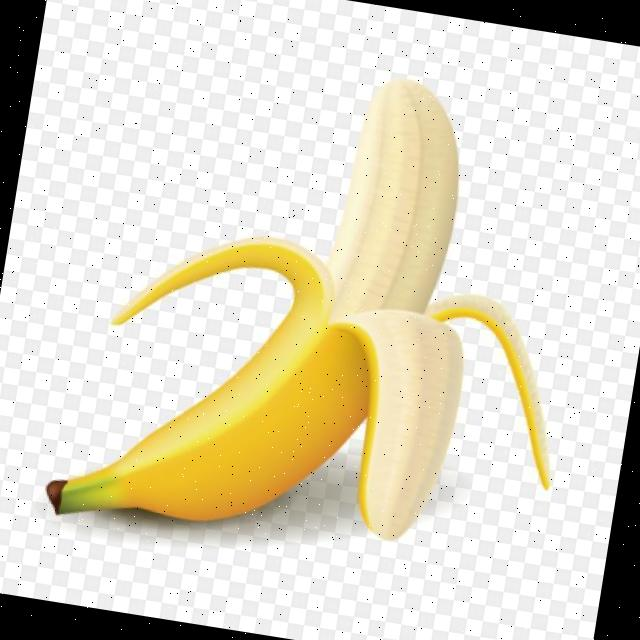banana-peel: (41, 31, 610, 590)
